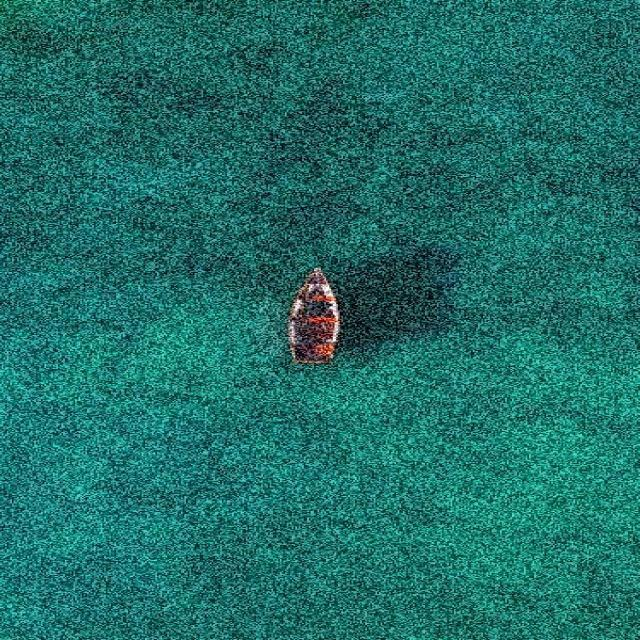ship2: (288, 269, 341, 368)
